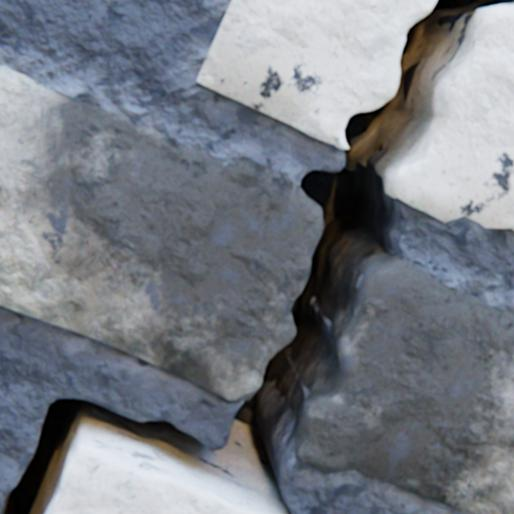brick: (46, 435, 288, 513)
broken_brick: (0, 67, 323, 399), (294, 254, 513, 513), (197, 0, 436, 150), (386, 4, 513, 230)
crack: (1, 0, 513, 513)
